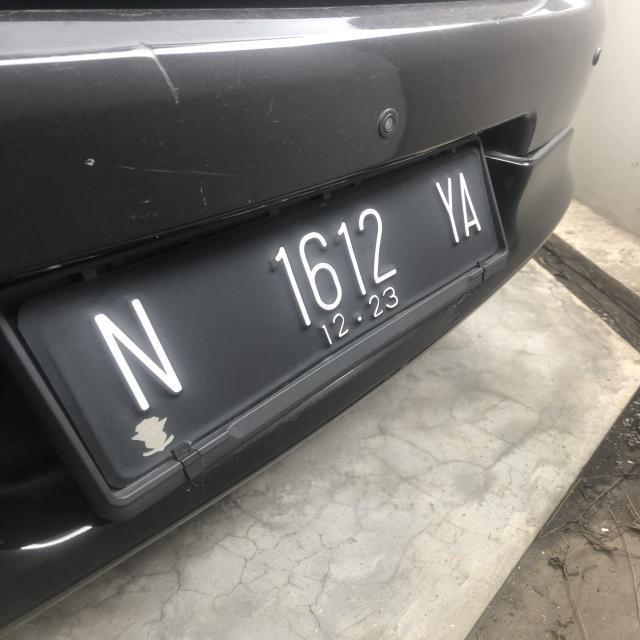1: (264, 242, 317, 333), (333, 224, 368, 302)
2: (355, 208, 403, 285)
6: (298, 232, 349, 312)
A: (455, 170, 487, 238)
N: (86, 300, 189, 405)
Y: (434, 173, 466, 244)
